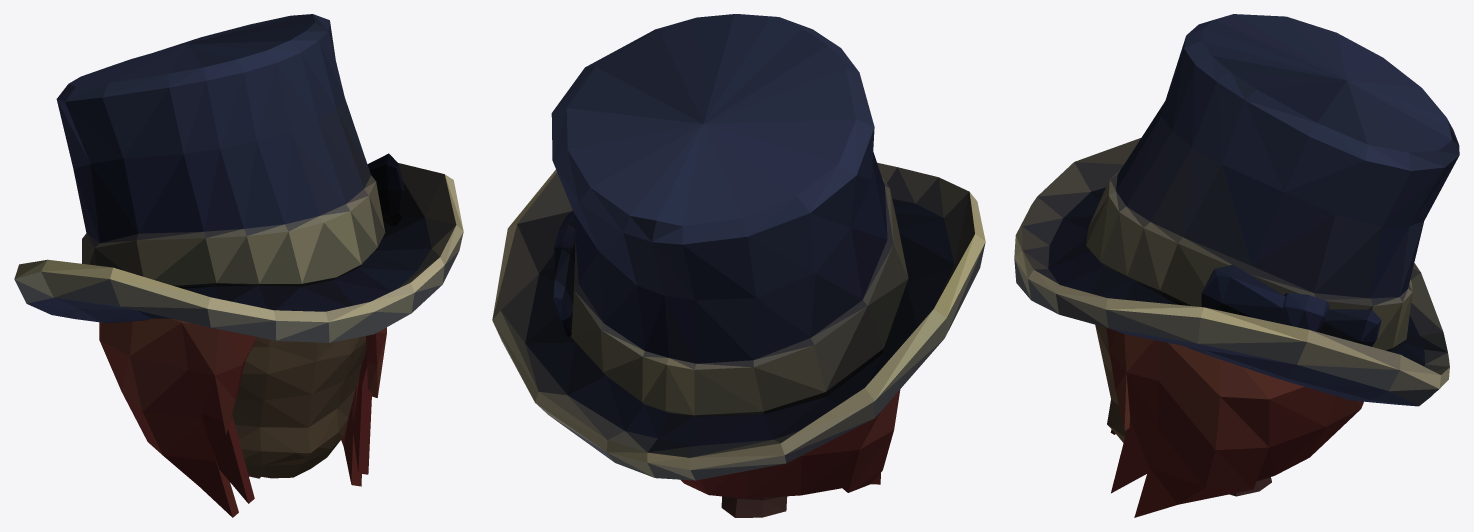
Rendered from helm_darkskin_bob_red_tophat.fbx.
3 views of the same model, side by side, from view 1: azimuth 30°, elevation 25°; view 2: azimuth 150°, elevation 25°; view 3: azimuth 270°, elevation 25° (orthographic). The views are drawn at different scales.
Parts seen in each view (by area): view 1: helm_darkskin_bob_red_tophat; view 2: helm_darkskin_bob_red_tophat; view 3: helm_darkskin_bob_red_tophat.
Boxes of the visible parts, box(x1,y1,x2,y2) form: helm_darkskin_bob_red_tophat: box(14, 14, 463, 517); helm_darkskin_bob_red_tophat: box(492, 14, 985, 517); helm_darkskin_bob_red_tophat: box(1014, 14, 1459, 517).
Size of the model in its own units: 1.68 by 1.83 by 1.64.
